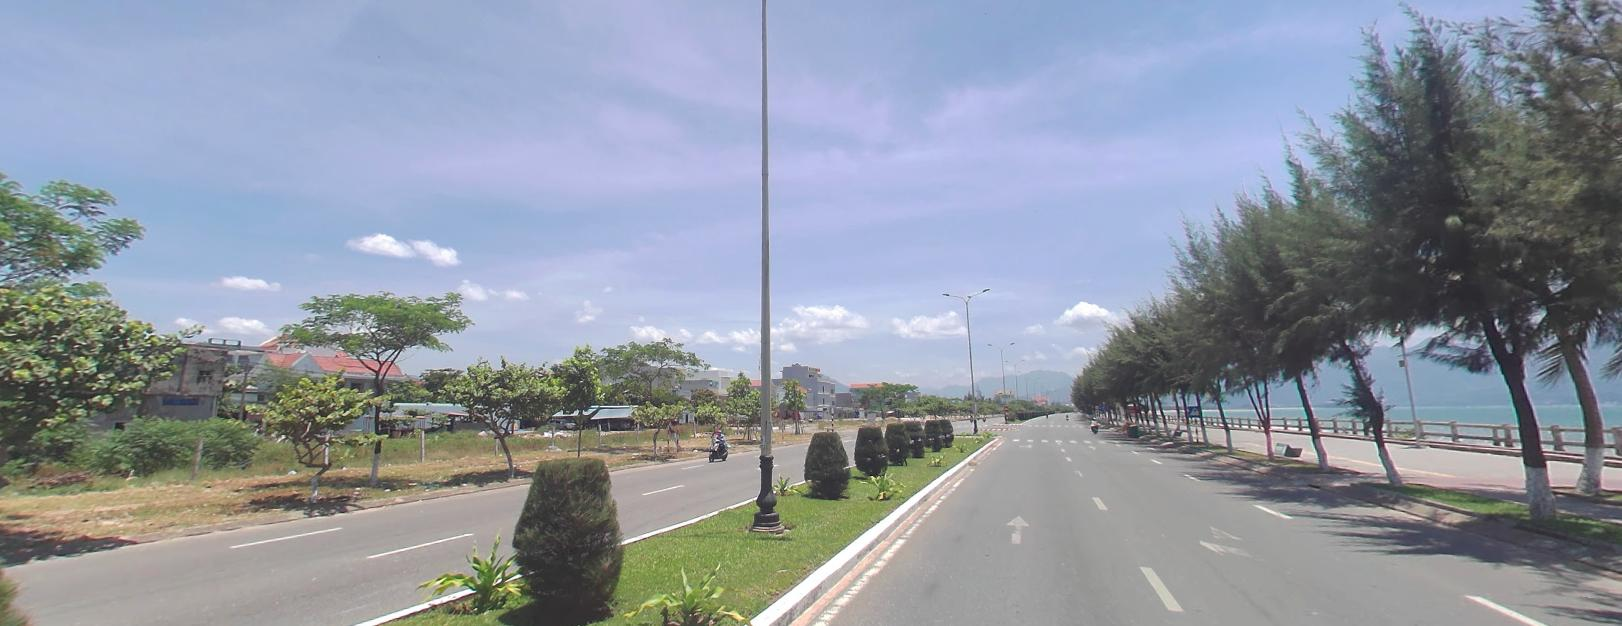Cam nguoc chieu: (1003, 405, 1008, 409)
